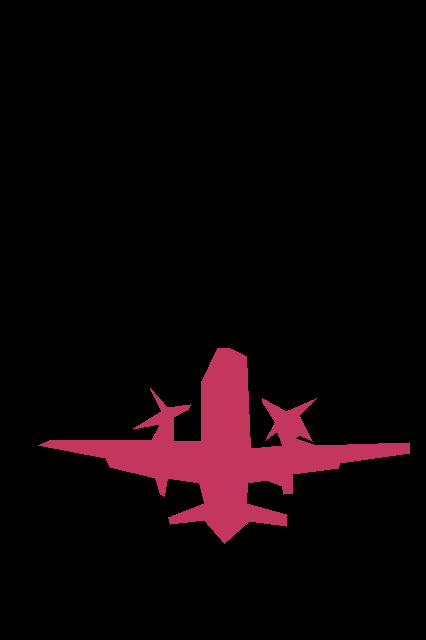Airplane: (38, 348, 410, 544)
